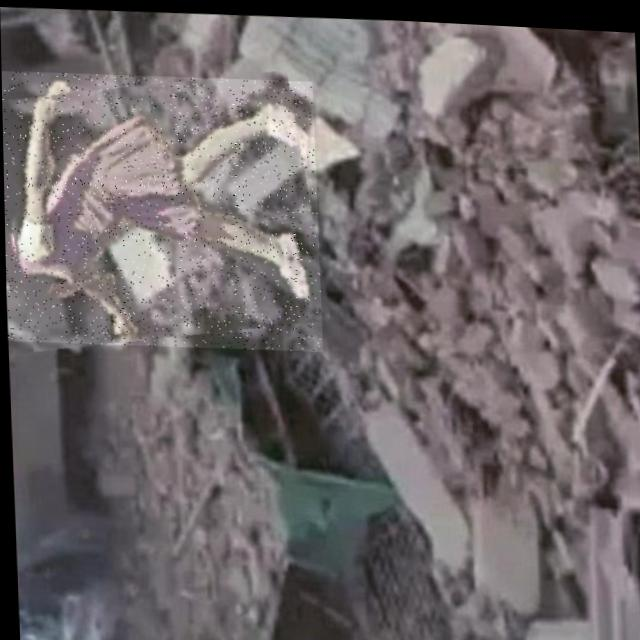Person in Rubble: (1, 64, 321, 352)
